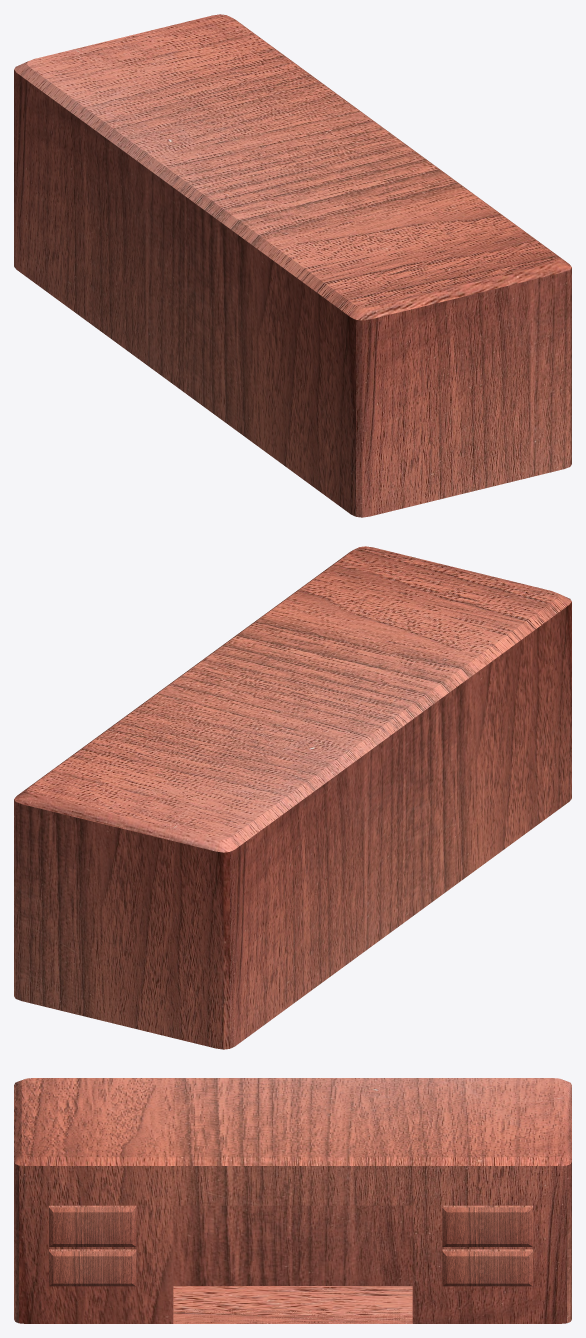
The model's file is LivingQuarters_CapsDesk_Unwrapped.fbx.
The picture shows the model from 3 angles, top to bottom: view 1: azimuth 30°, elevation 25°; view 2: azimuth 150°, elevation 25°; view 3: azimuth 270°, elevation 25°; orthographic projection. The views are drawn at different scales.
Visible parts, largest first — view 1: CapDesk; view 2: CapDesk; view 3: CapDesk.
Part boxes in pixels (box(x1,y1,x2,y2)): CapDesk: box(14, 14, 571, 517); CapDesk: box(14, 546, 571, 1049); CapDesk: box(14, 1078, 571, 1323).
Size of the model in its own units: 48.3 by 41.66 by 129.
